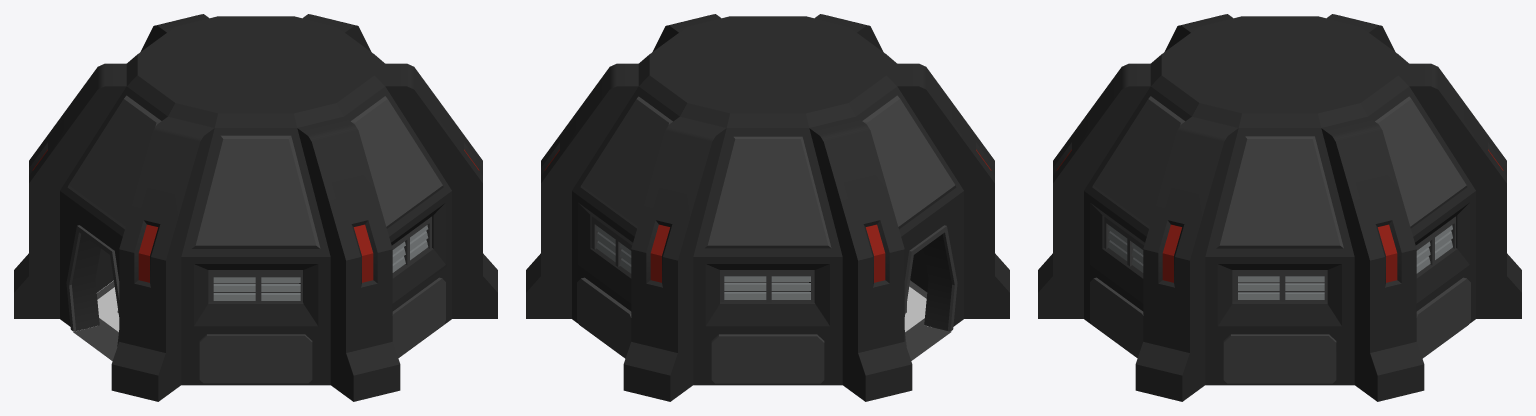
Rendered from Death Scene.fbx.
3 views of the same model, side by side, from view 1: azimuth 30°, elevation 25°; view 2: azimuth 150°, elevation 25°; view 3: azimuth 270°, elevation 25° (orthographic).
Parts seen in each view (by area): view 1: Death_Scene_Containment_Cell, Floor, Fence_Floor; view 2: Death_Scene_Containment_Cell, Floor, Fence_Floor; view 3: Death_Scene_Containment_Cell.
Part boxes in pixels (left/top/right/bottom): Death_Scene_Containment_Cell: left=14, top=14, right=497, bottom=401; Floor: left=73, top=281, right=299, bottom=360; Fence_Floor: left=97, top=287, right=119, bottom=331; Death_Scene_Containment_Cell: left=526, top=14, right=1009, bottom=401; Floor: left=724, top=280, right=951, bottom=360; Fence_Floor: left=904, top=286, right=926, bottom=331; Death_Scene_Containment_Cell: left=1038, top=14, right=1521, bottom=401.
Size of the model in its own units: 724 by 443 by 785.
